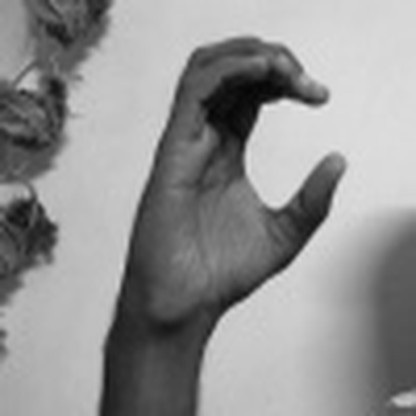c: (117, 18, 355, 317)
